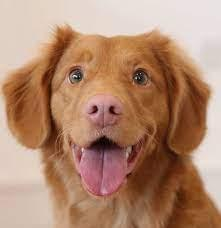Dog: (1, 24, 212, 196)
